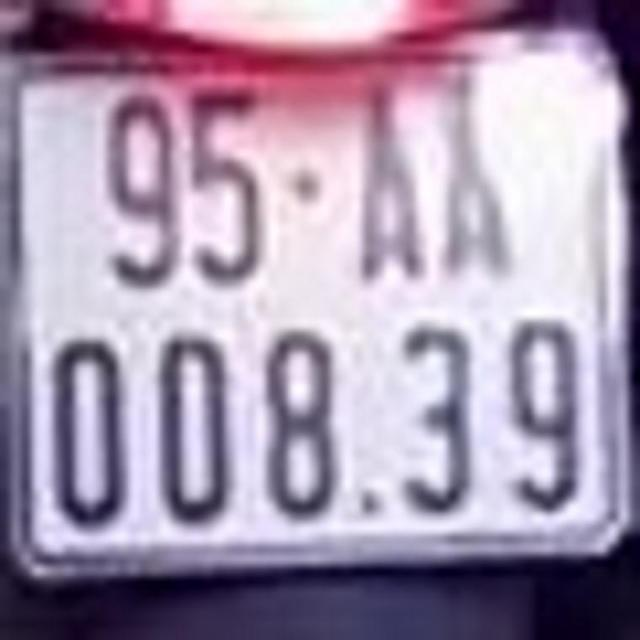0: (38, 333, 136, 532), (149, 322, 241, 530)
3: (390, 313, 486, 522)
5: (186, 70, 266, 308)
8: (258, 310, 348, 524)
9: (95, 72, 187, 316), (500, 305, 597, 514)
A: (346, 70, 434, 308), (436, 76, 526, 292)
